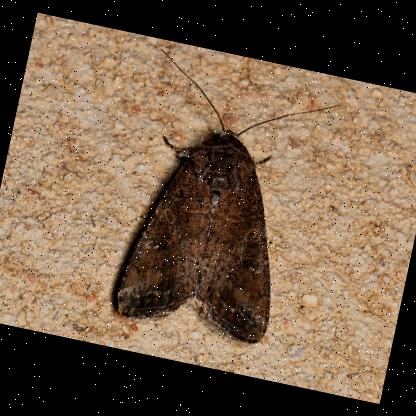Fall Armyworm Moth: (101, 46, 346, 356)
